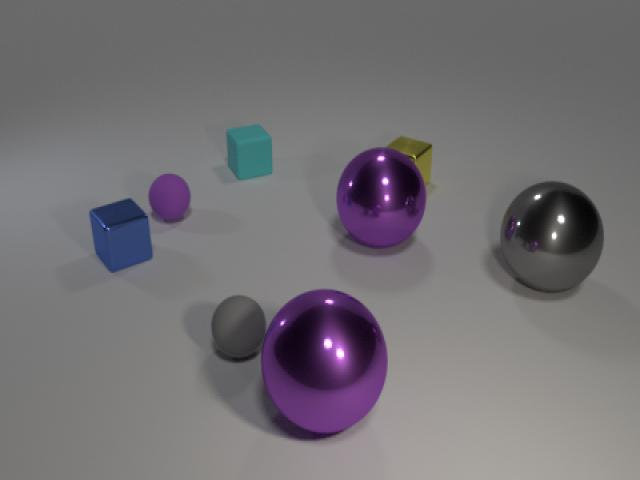round ball: (256, 282, 392, 444), (490, 172, 612, 304), (330, 140, 431, 251), (208, 287, 271, 365), (146, 171, 194, 225)
